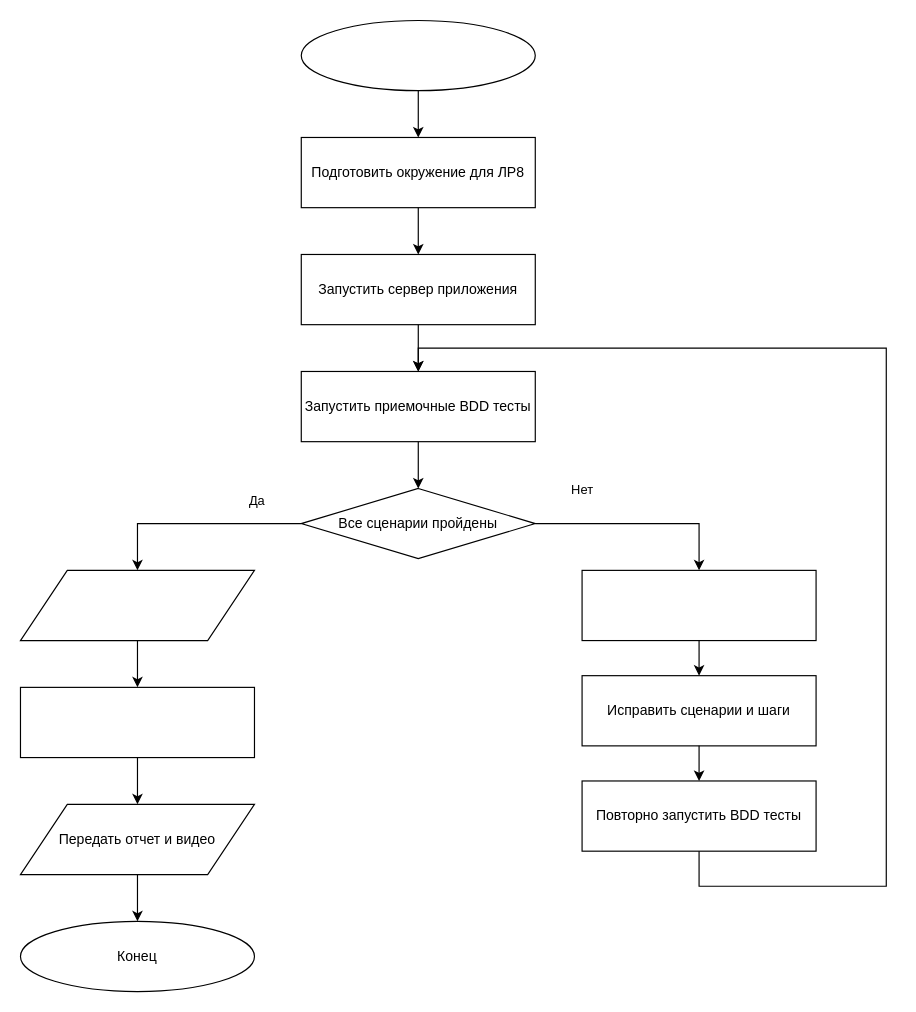
Image size: 916x1012. Some labels were removed from this diagram. Each missing label, with the box of its shape:
Начало: (300, 19, 535, 91)
Проанализировать упавшие шаги: (581, 569, 816, 641)
Сохранить результат прогона: (19, 569, 254, 641)
Сформировать отчет по ЛР8: (19, 686, 254, 758)
